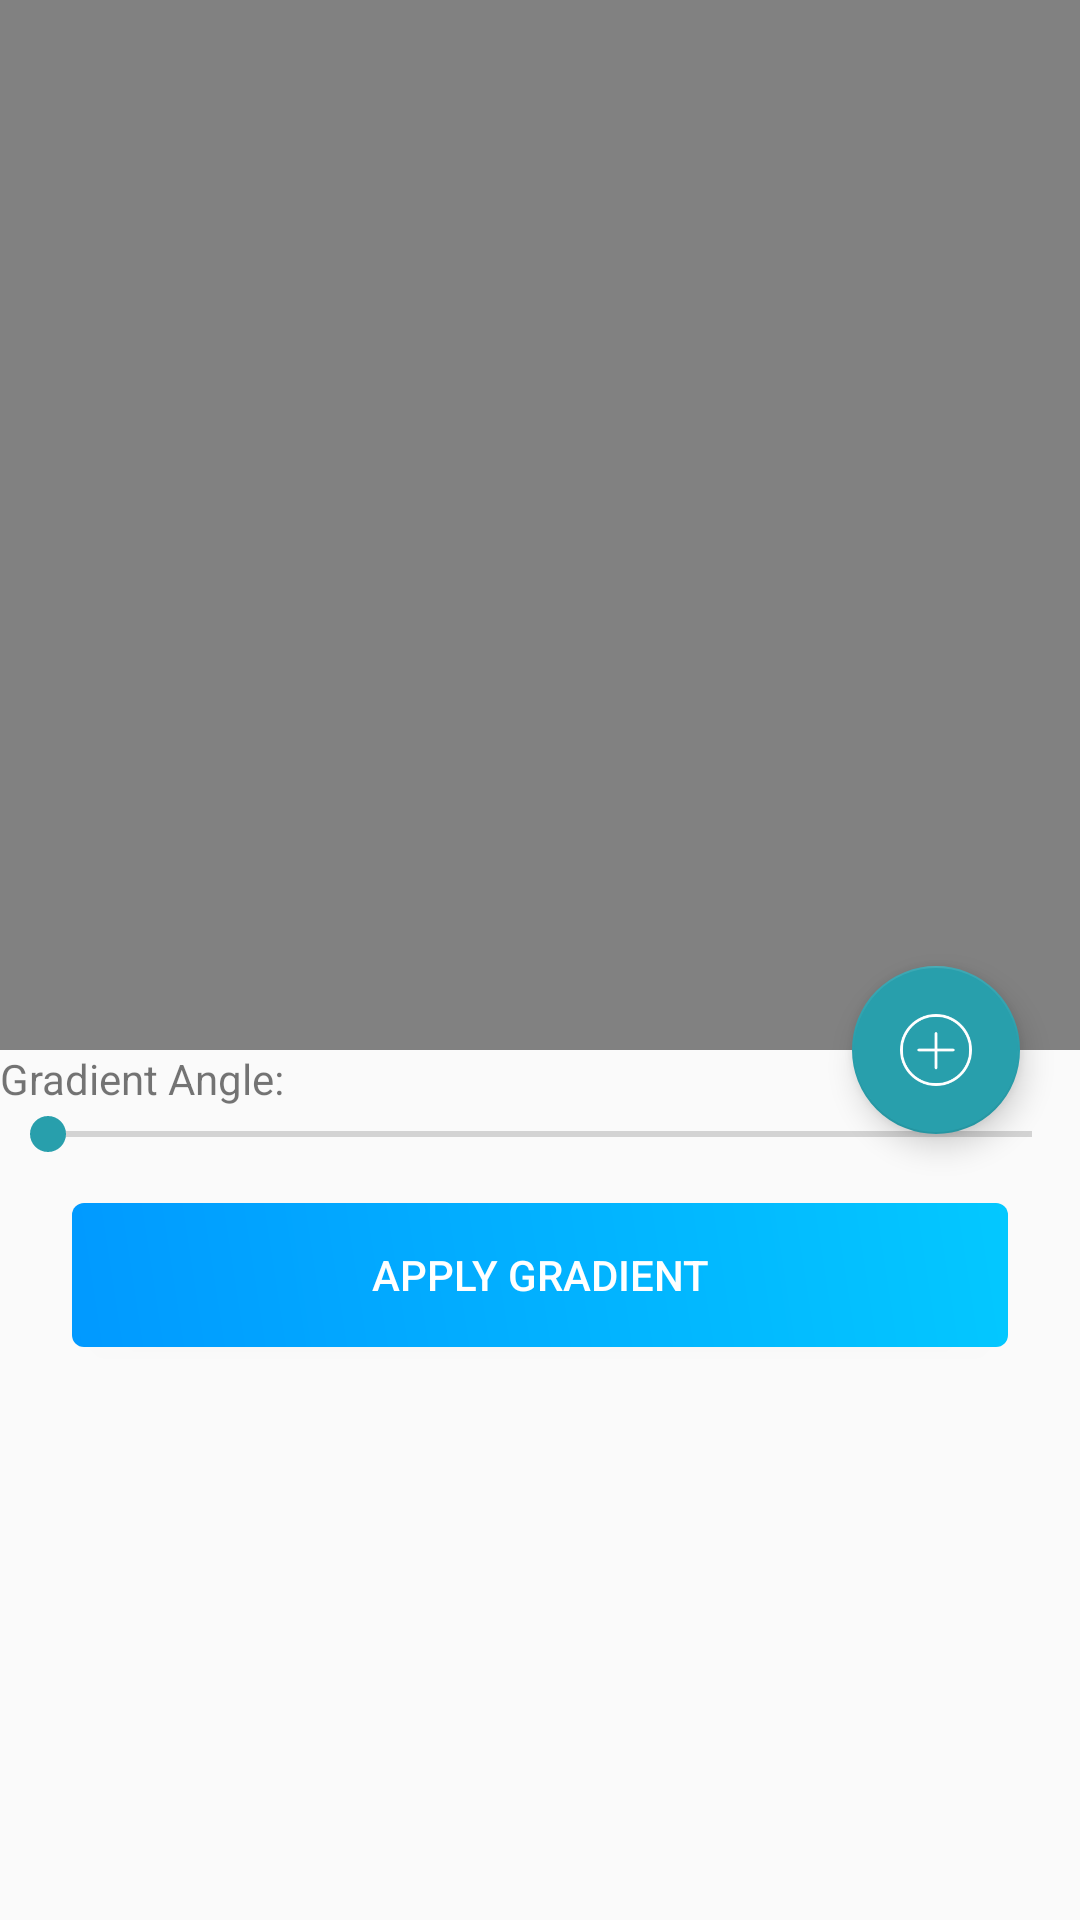

Icons on this 1080x1920 Android screen, each with the point to tap as point (x, y):
add: point (936, 1050)
